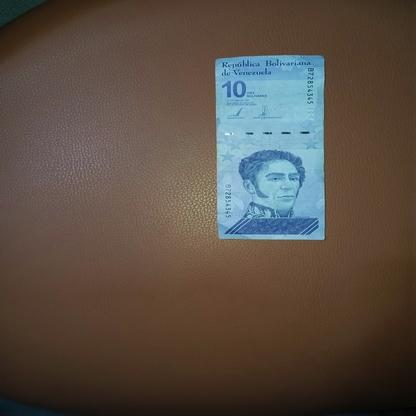ten-front-vef: (216, 56, 326, 240)
